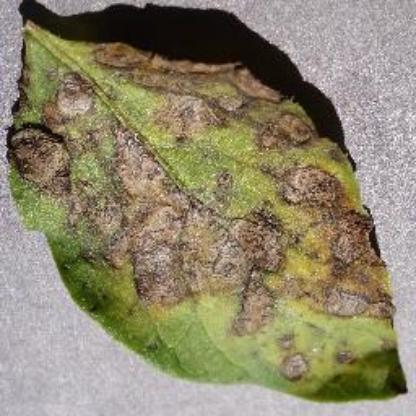Early-Blight: (11, 12, 410, 404)
